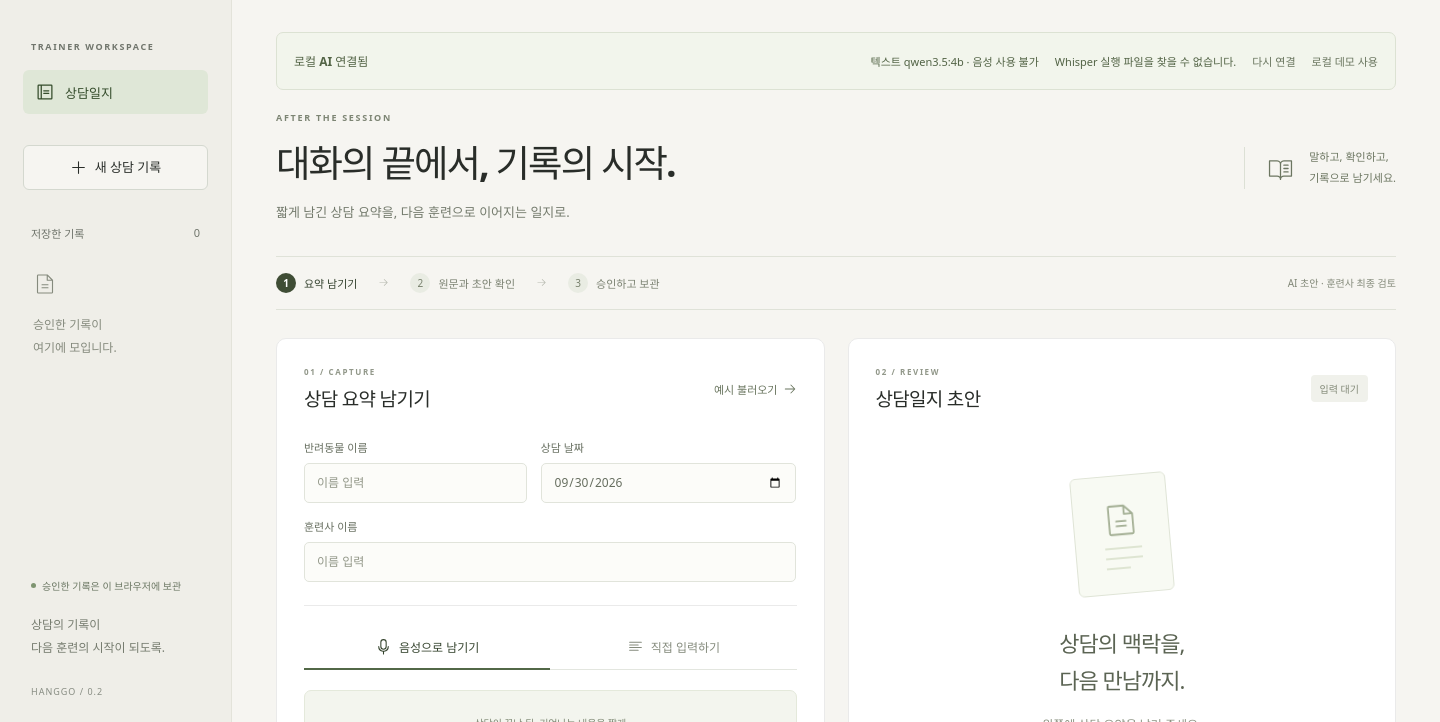
keeps local text AI available when local speech is unavailable
This screenshot has width=1440, height=722.
What coordinates should you click on to do the following:
click the button "예시 불러오기"
I would click on:
 (755, 389)
Its box is [714, 374, 796, 404].
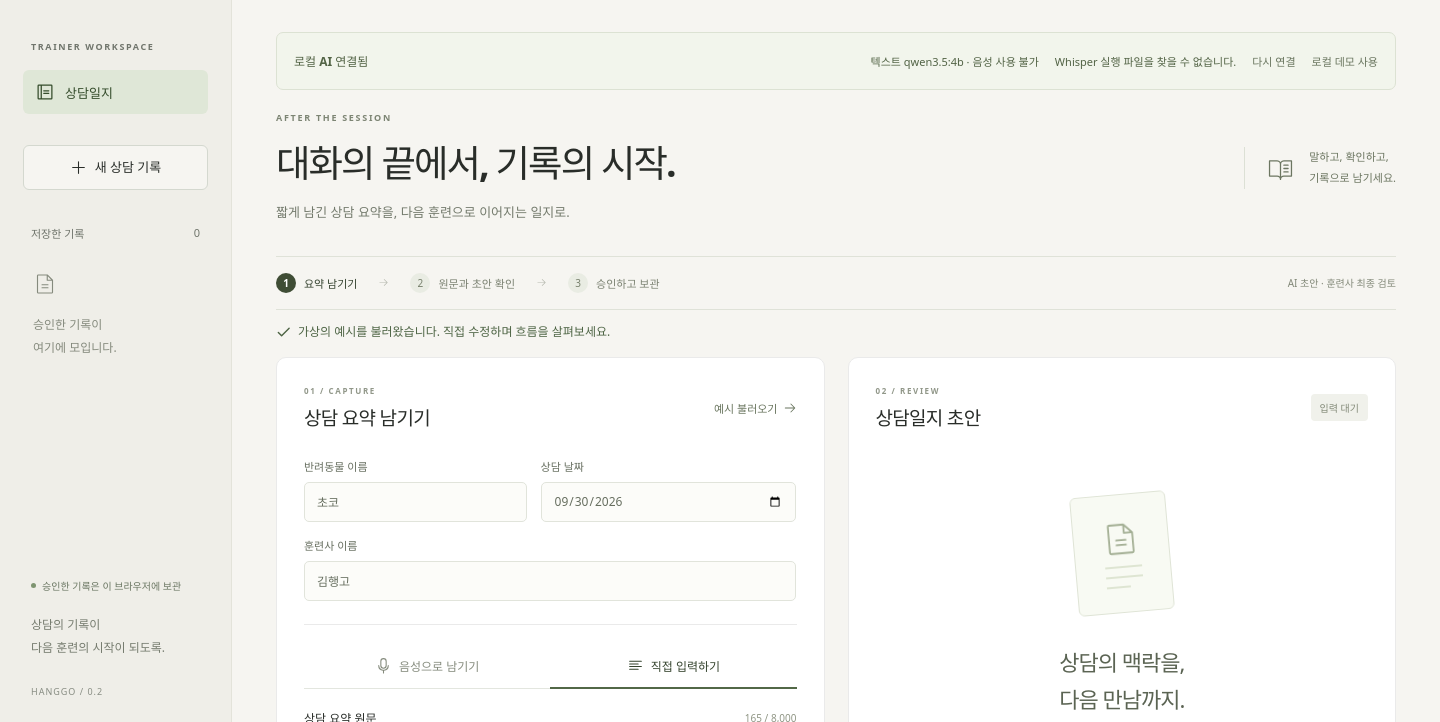
Check: the text "Whisper 실행 파일을 찾을 수 없습니다." is shown, box [1055, 53, 1236, 69]
What coordinates should you click on to do the following:
click the button "음성으로 남기기"
I would click on:
 (427, 667)
Its box is [304, 645, 550, 689].
(page scrolled)
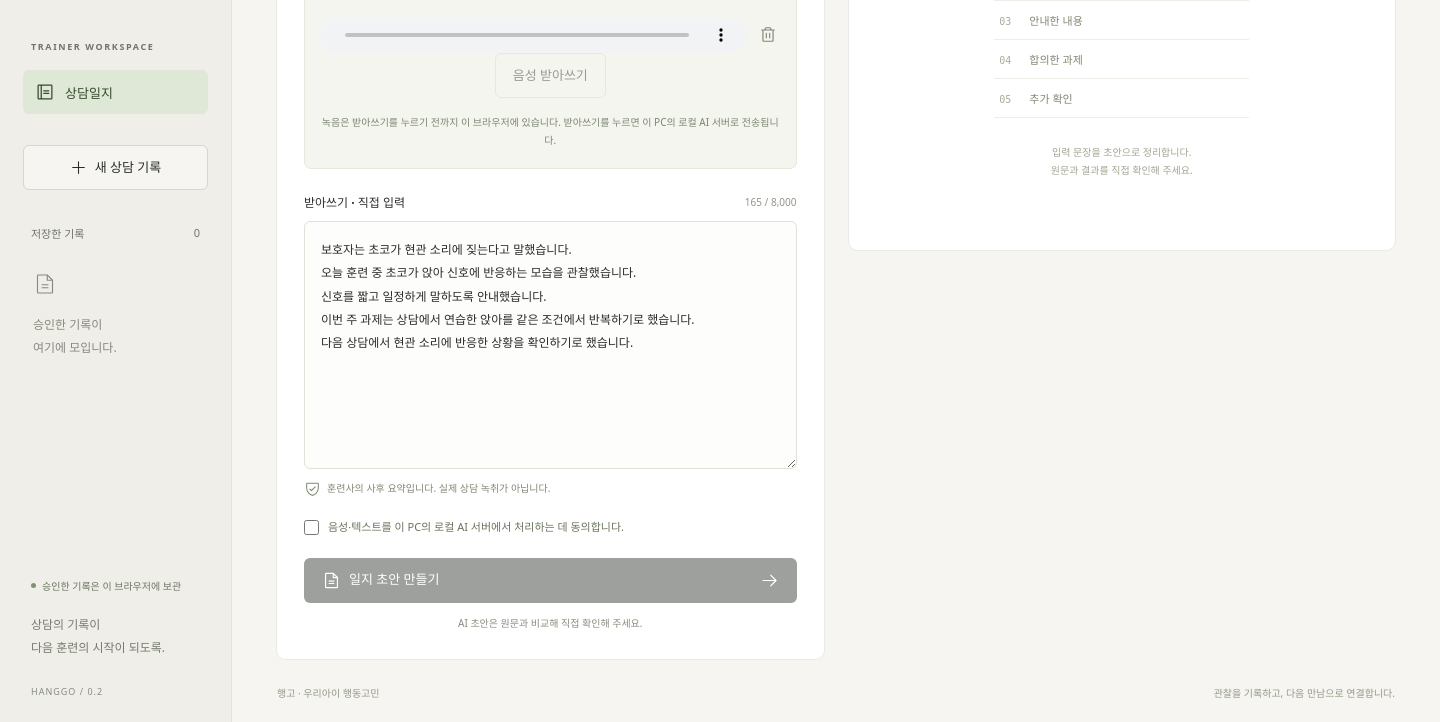
Check: the button "음성 받아쓰기" is disabled, box [495, 53, 606, 98]
What coordinates should you click on to do the following:
click the checkbox labelled "음성·텍스트를 이 PC의 로컬 AI 서버에서 처리하는 데 동의합니다."
I would click on:
 (312, 527)
Its box is [304, 520, 319, 535].
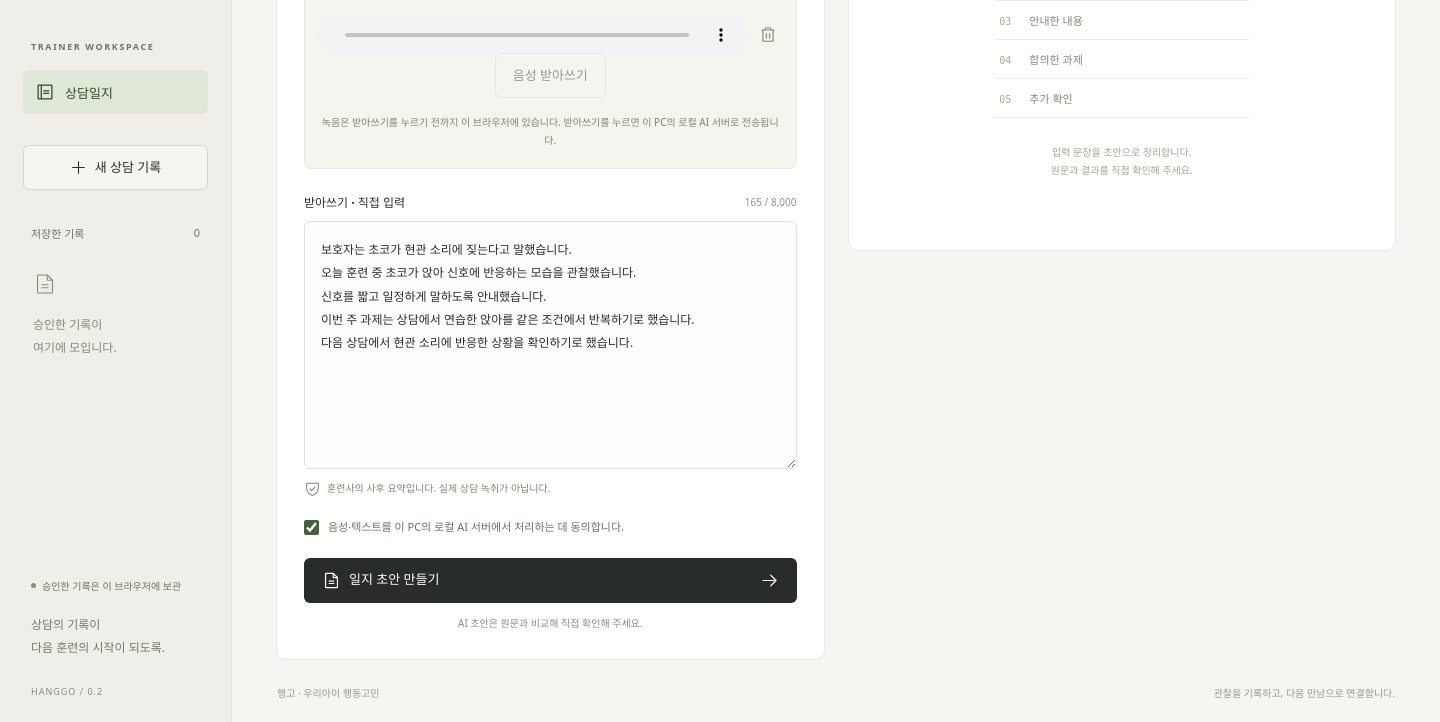
Check: the button "일지 초안 만들기" is enabled, box [304, 558, 796, 603]
